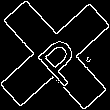P_NW: (24, 24, 86, 86)
